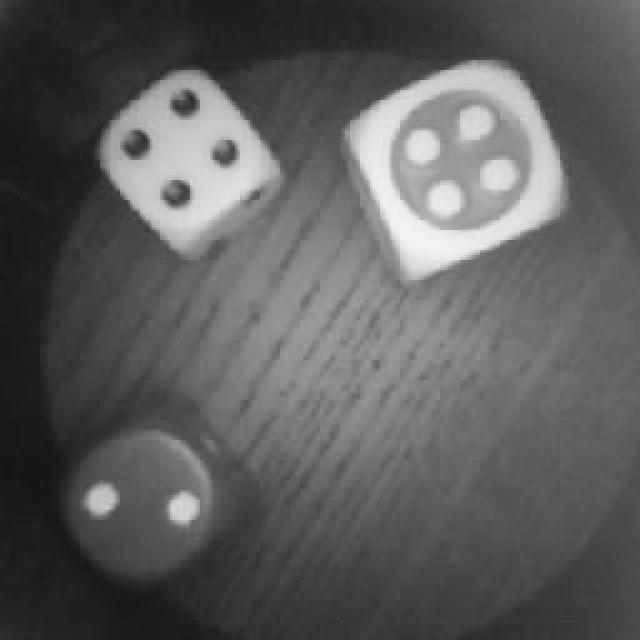dice_2: (52, 398, 250, 598)
dice_4: (342, 52, 562, 278), (92, 67, 280, 245)
